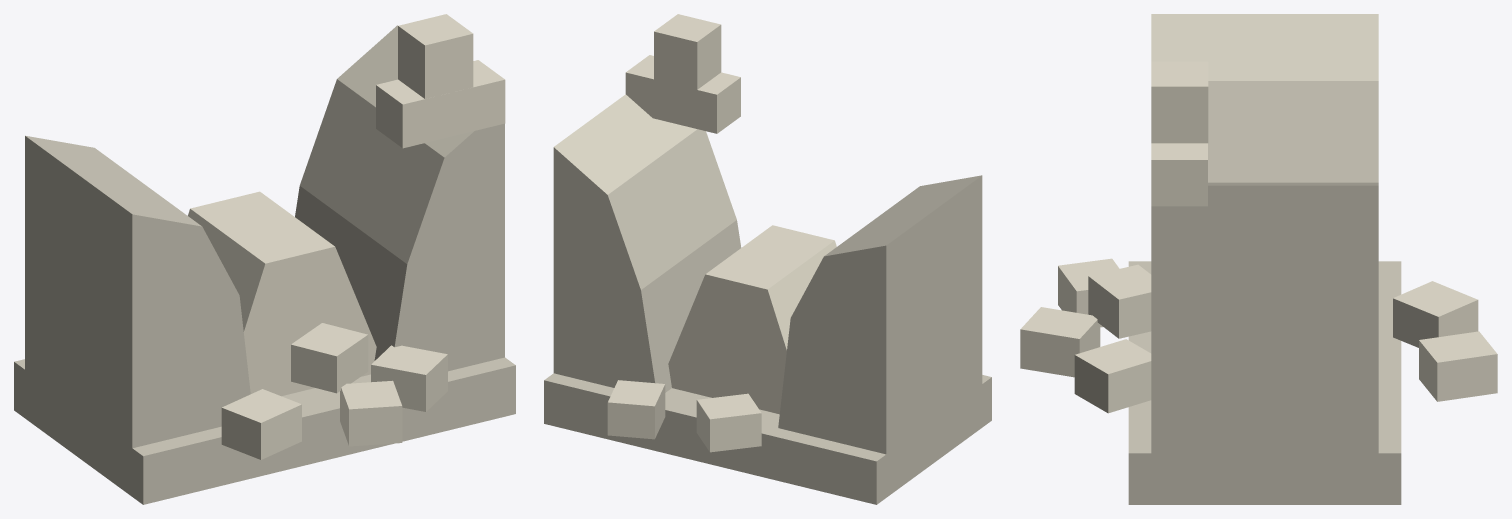
File: assault-wall-bay-breached.glb
The picture shows the model from 3 angles, left to right: view 1: azimuth 30°, elevation 25°; view 2: azimuth 150°, elevation 25°; view 3: azimuth 270°, elevation 25°; orthographic projection. The views are drawn at different scales.
Parts seen in each view (by area): view 1: assault-wall-breached; view 2: assault-wall-breached; view 3: assault-wall-breached.
Part boxes in pixels (<box>): assault-wall-breached: <box>14,14,515,504</box>; assault-wall-breached: <box>544,14,991,504</box>; assault-wall-breached: <box>1020,14,1497,504</box>.
Bounding box in the file's own units: 4 × 3.9 × 4.2.
